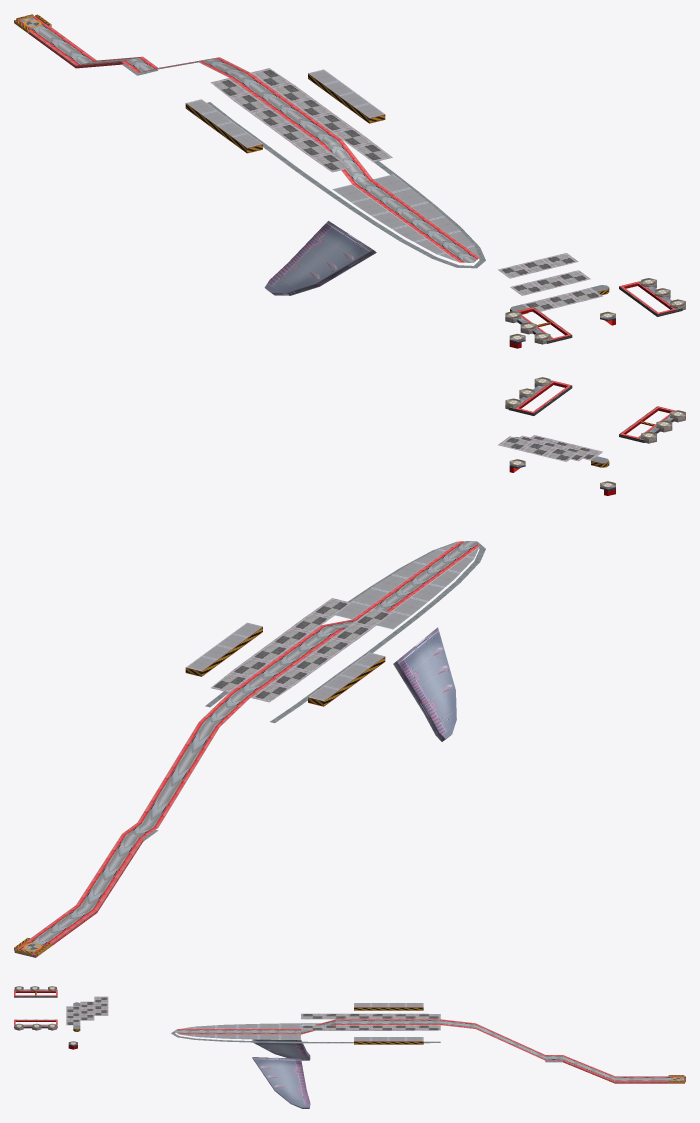
Rendered from S13_ONS_33.OBJ.
The picture shows the model from 3 angles, top to bottom: view 1: azimuth 30°, elevation 25°; view 2: azimuth 150°, elevation 25°; view 3: azimuth 270°, elevation 25°; orthographic projection. The views are drawn at different scales.
Parts seen in each view (by area): view 1: s13_ons_33_1, s13_ons_33_4, s13_ons_33_7, s13_ons_33_15, s13_ons_33_14, s13_ons_33_5, s13_ons_33_6, s13_ons_33_2, s13_ons_33_11; view 2: s13_ons_33_4, s13_ons_33_1, s13_ons_33_7, s13_ons_33_15, s13_ons_33_14, s13_ons_33_6, s13_ons_33_5, s13_ons_33_2; view 3: s13_ons_33_4, s13_ons_33_1, s13_ons_33_7, s13_ons_33_15, s13_ons_33_14, s13_ons_33_6, s13_ons_33_2, s13_ons_33_5, s13_ons_33_11.
Boxes of the visible parts, left/top/right/bottom form: s13_ons_33_1: left=26, top=21, right=602, bottom=313; s13_ons_33_4: left=18, top=16, right=676, bottom=339; s13_ons_33_7: left=264, top=221, right=376, bottom=295; s13_ons_33_15: left=332, top=174, right=479, bottom=261; s13_ons_33_14: left=352, top=179, right=479, bottom=262; s13_ons_33_5: left=122, top=64, right=608, bottom=311; s13_ons_33_6: left=186, top=69, right=384, bottom=147; s13_ons_33_2: left=14, top=14, right=609, bottom=326; s13_ons_33_11: left=505, top=278, right=685, bottom=341; s13_ons_33_4: left=15, top=380, right=674, bottom=957; s13_ons_33_1: left=26, top=435, right=602, bottom=949; s13_ons_33_7: left=393, top=627, right=456, bottom=741; s13_ons_33_15: left=335, top=542, right=479, bottom=629; s13_ons_33_14: left=352, top=541, right=479, bottom=620; s13_ons_33_6: left=186, top=622, right=384, bottom=700; s13_ons_33_5: left=143, top=437, right=608, bottom=841; s13_ons_33_2: left=14, top=421, right=654, bottom=953; s13_ons_33_4: left=14, top=990, right=684, bottom=1083; s13_ons_33_1: left=66, top=996, right=679, bottom=1080; s13_ons_33_7: left=252, top=1039, right=310, bottom=1108; s13_ons_33_15: left=180, top=1023, right=300, bottom=1040; s13_ons_33_14: left=175, top=1028, right=300, bottom=1034; s13_ons_33_6: left=354, top=1003, right=423, bottom=1041; s13_ons_33_2: left=35, top=992, right=685, bottom=1081; s13_ons_33_5: left=73, top=1002, right=562, bottom=1062; s13_ons_33_11: left=14, top=986, right=77, bottom=1045.
Bounding box in the file's own units: 682 × 496 × 3849.
14 materials, 14 textured.
